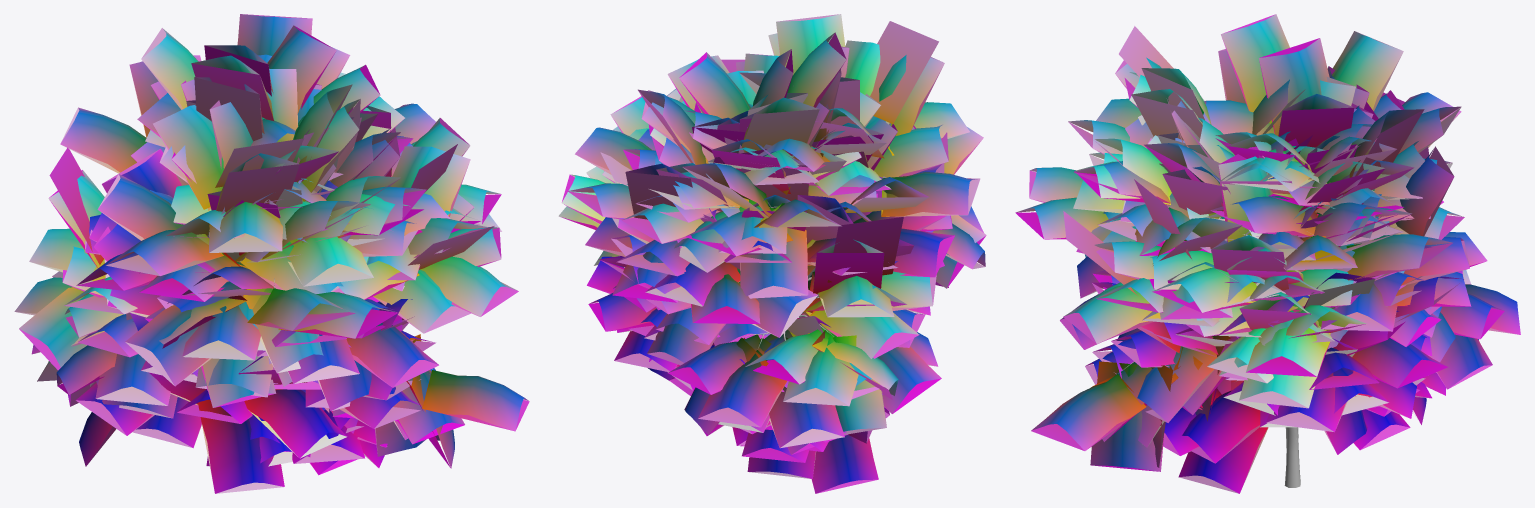
The model's file is elm_03_3.fbx.
3 renders of one model, left to right at view 1: azimuth 30°, elevation 25°; view 2: azimuth 150°, elevation 25°; view 3: azimuth 270°, elevation 25°, orthographic. The views are drawn at different scales.
Visible parts, largest first — view 1: elm_rought_leaves_03_3_lod_0, elm_rought_leaves_03_3_shadow; view 2: elm_rought_leaves_03_3_lod_0, elm_rought_leaves_03_3_shadow; view 3: elm_rought_leaves_03_3_lod_0, elm_rought_leaves_03_3_shadow, elm_rought_tree_03_3_lod_0.
Part boxes in pixels (<box>): elm_rought_leaves_03_3_lod_0: <box>14,14,528,493</box>; elm_rought_leaves_03_3_shadow: <box>16,14,529,493</box>; elm_rought_leaves_03_3_lod_0: <box>558,14,986,493</box>; elm_rought_leaves_03_3_shadow: <box>561,14,985,493</box>; elm_rought_leaves_03_3_lod_0: <box>1016,14,1520,493</box>; elm_rought_leaves_03_3_shadow: <box>1015,14,1519,493</box>; elm_rought_tree_03_3_lod_0: <box>1118,361,1300,487</box>.
Size of what is drawn, in the model's own units: 10.63 by 11.2 by 11.68.
